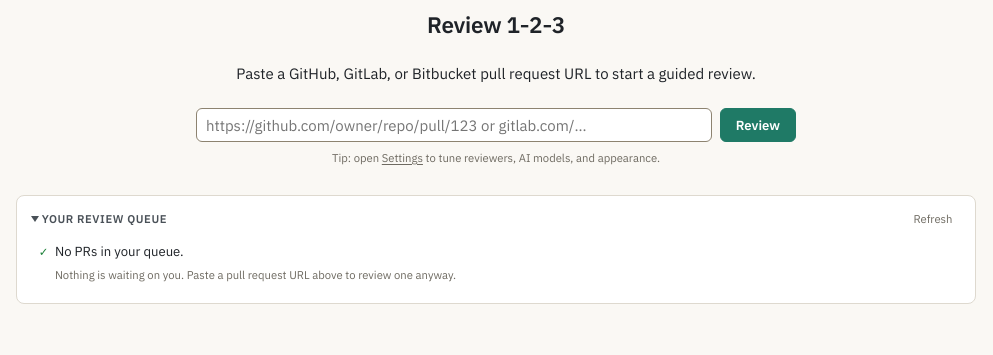
it: Landing › EC-01b: empty submit shows "enter a PR URL", no navigation
This screenshot has width=993, height=355.
Click the button "Review" at (758, 125), box [720,108,796,142]
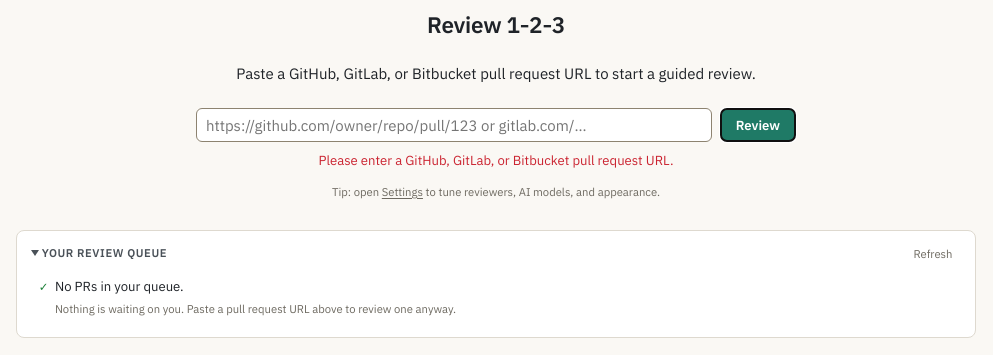
Expected: the message shows "enter a GitHub, GitLab, or Bitbucket pull request URL", [318,152,674,169]
